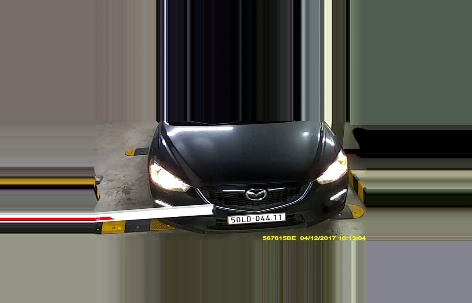plate: (225, 211, 286, 224)
